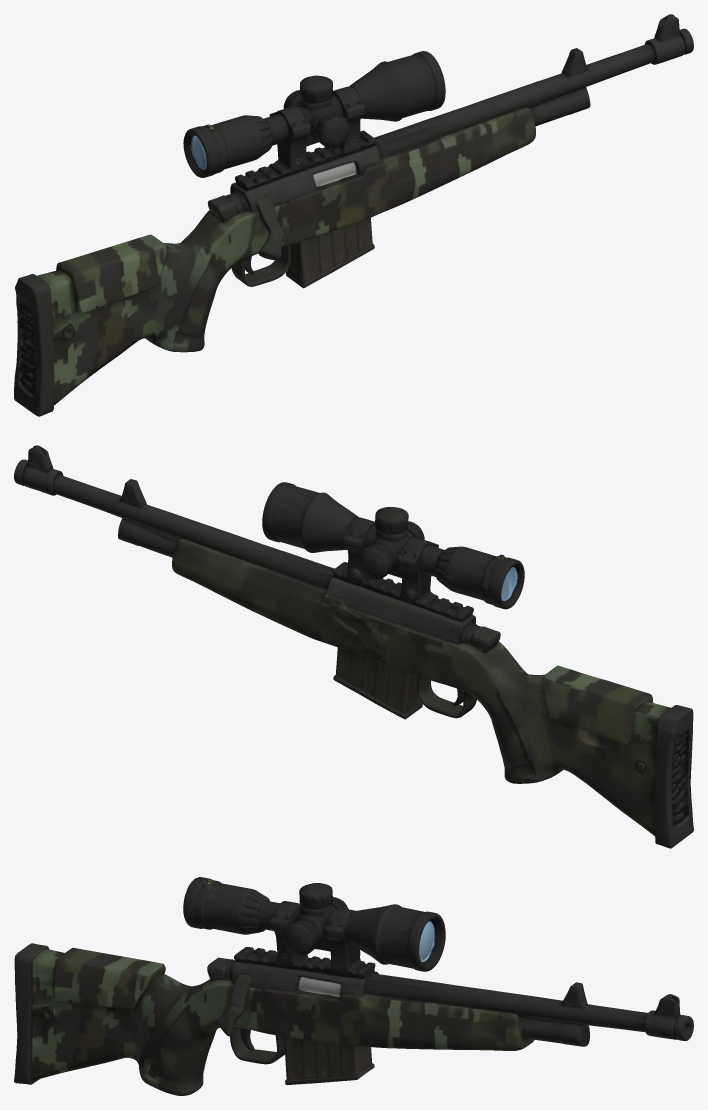
The model's file is sniper.glb.
The picture shows the model from 3 angles, top to bottom: view 1: azimuth 30°, elevation 25°; view 2: azimuth 150°, elevation 25°; view 3: azimuth 330°, elevation 25°; orthographic projection.
Parts seen in each view (by area): view 1: geometry_0; view 2: geometry_0; view 3: geometry_0.
Part boxes in pixels (x1,y1,x2,y2): geometry_0: (14,14,693,416); geometry_0: (14,445,693,848); geometry_0: (14,877,693,1095).
Bounding box in the file's own units: 1.2 × 0.4478 × 0.1493.
Materials: 1 (1 with a texture image).
